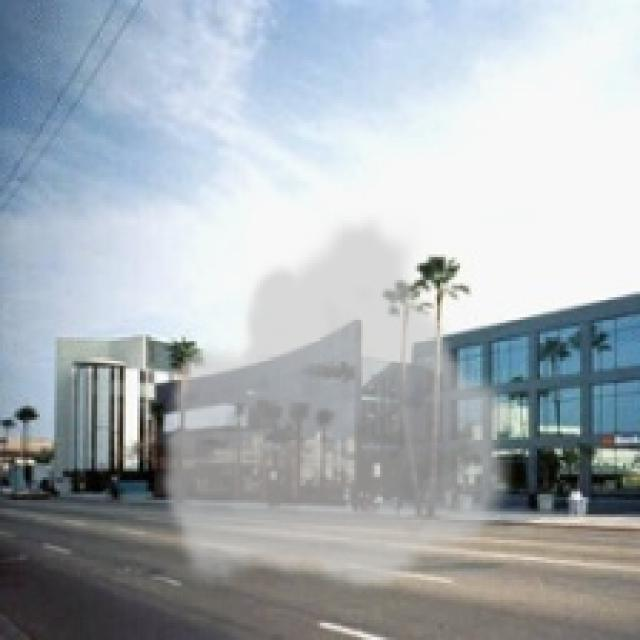Smoke: (154, 208, 523, 594)
